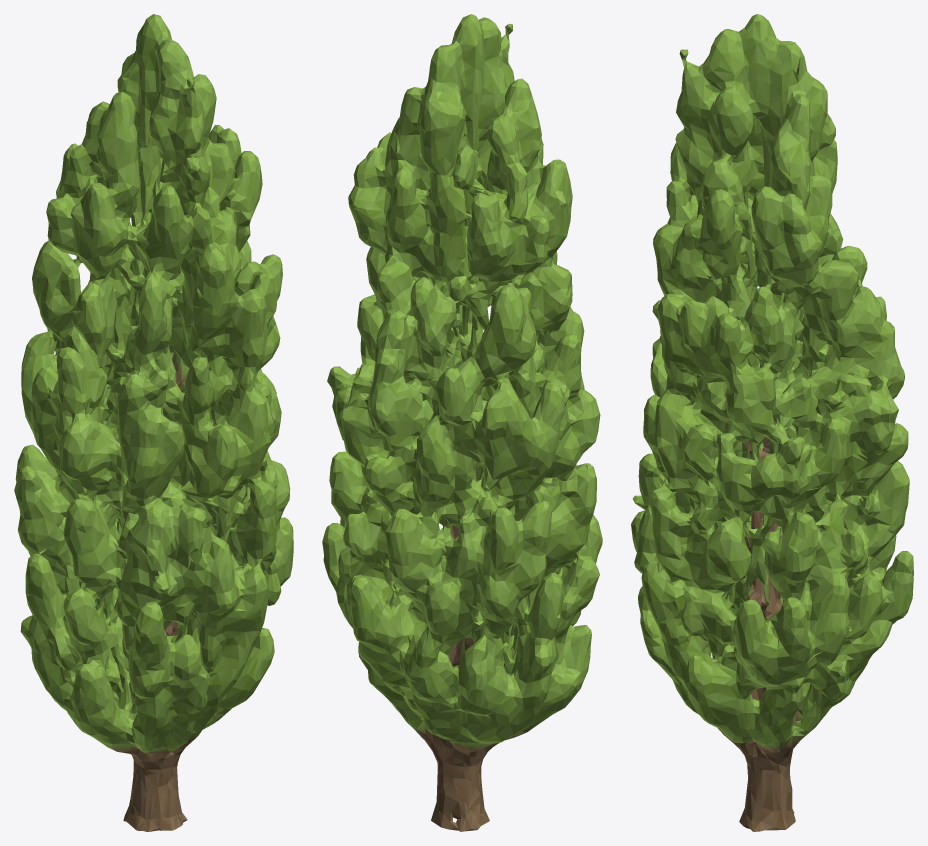
Rendered from poplar_tree.glb.
3 renders of one model, left to right at view 1: azimuth 30°, elevation 25°; view 2: azimuth 150°, elevation 25°; view 3: azimuth 270°, elevation 25°, orthographic.
Visible parts, largest first — view 1: world; view 2: world; view 3: world.
Part boxes in pixels (x1,y1,x2,y2): world: (14,14,293,831); world: (322,14,602,831); world: (631,14,913,831).
Size of the model in its own units: 1.73 by 5.5 by 1.75.
